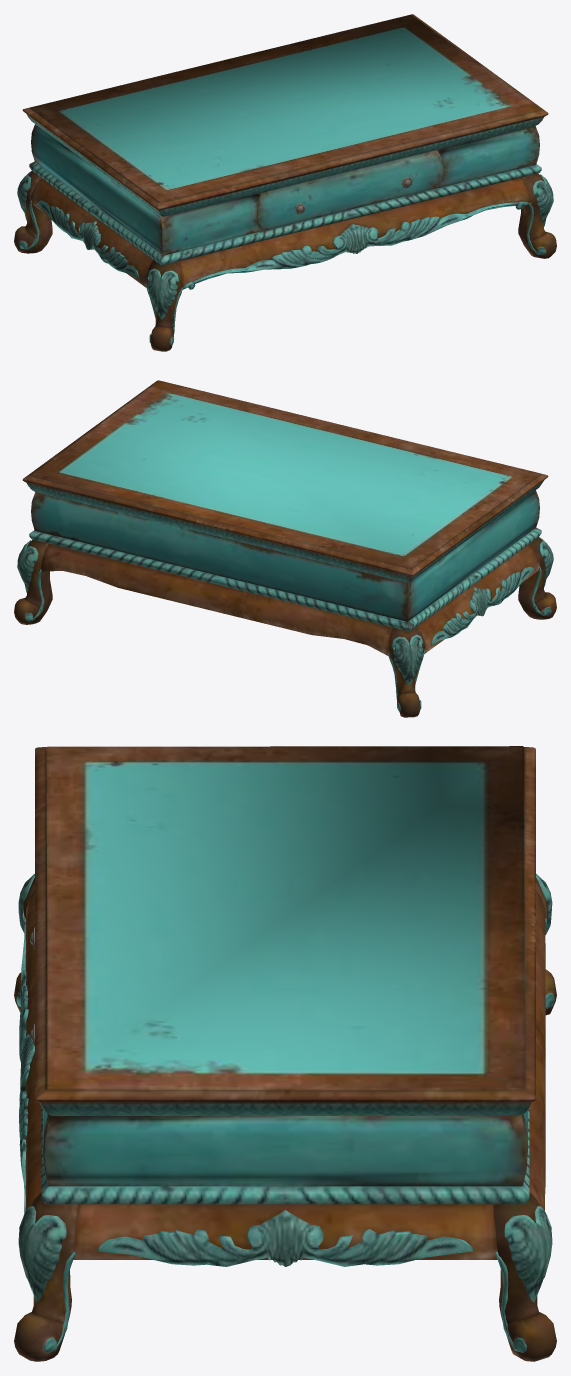
Rendered from CoffeeTable_01.glb.
The picture shows the model from 3 angles, top to bottom: view 1: azimuth 30°, elevation 25°; view 2: azimuth 150°, elevation 25°; view 3: azimuth 270°, elevation 25°; orthographic projection. The views are drawn at different scales.
Visible parts, largest first — view 1: CoffeeTable_01; view 2: CoffeeTable_01; view 3: CoffeeTable_01.
Boxes of the visible parts, x1=… form: CoffeeTable_01: x1=14, y1=14, x2=556, y2=351; CoffeeTable_01: x1=14, y1=380, x2=556, y2=717; CoffeeTable_01: x1=14, y1=746, x2=556, y2=1361.
Bounding box in the file's own units: 1.54 × 0.5232 × 0.9728.
Materials: 1 (1 with a texture image).
